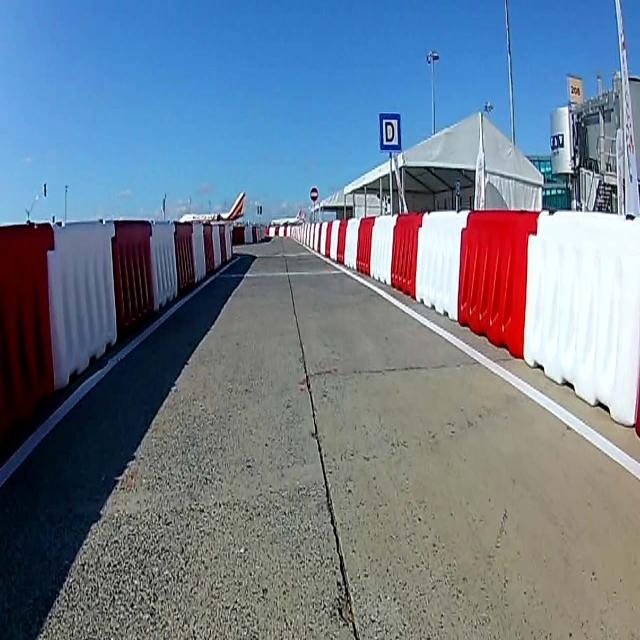durak: (380, 113, 402, 155)
girisyok: (310, 184, 318, 203)
